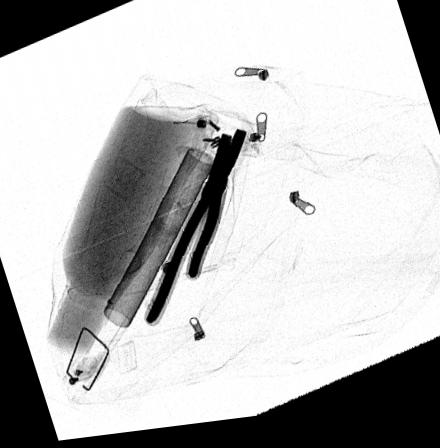Pliers: (144, 134, 248, 331)
